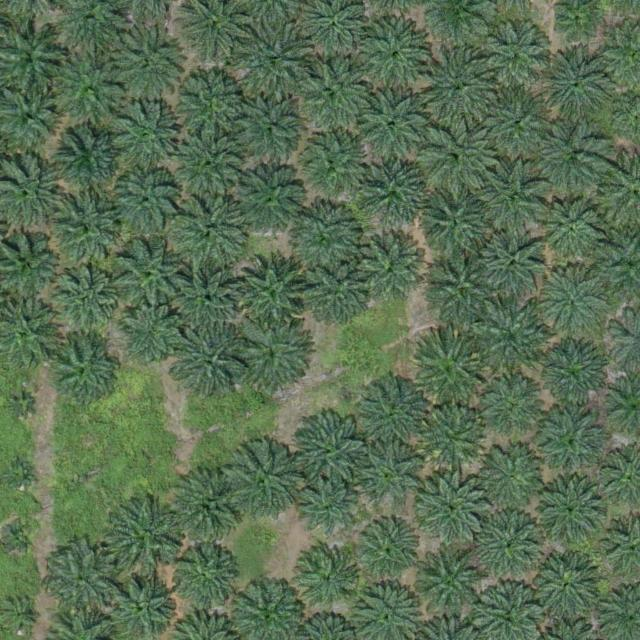Kelapa_Sawit: (45, 49, 123, 127), (104, 100, 182, 178), (106, 23, 184, 101), (107, 237, 185, 315), (173, 66, 251, 144), (173, 125, 251, 203), (172, 192, 250, 270), (170, 322, 248, 400), (286, 56, 364, 134), (289, 125, 367, 203), (282, 199, 360, 277), (231, 251, 309, 329), (234, 316, 312, 394), (417, 47, 495, 125), (415, 119, 493, 197), (409, 333, 487, 411), (288, 412, 366, 490), (222, 445, 300, 523), (108, 498, 186, 576), (45, 261, 115, 332), (53, 194, 123, 265), (116, 300, 186, 371), (480, 88, 550, 159), (479, 21, 549, 92), (538, 51, 608, 122), (539, 123, 609, 194), (172, 470, 242, 541), (48, 335, 118, 405), (55, 124, 125, 194), (111, 167, 181, 237), (168, 265, 238, 335), (232, 165, 302, 235), (233, 94, 303, 164), (241, 22, 311, 92), (299, 255, 369, 325), (355, 232, 425, 302), (360, 154, 430, 224), (355, 90, 425, 160), (358, 21, 428, 91), (420, 190, 490, 260), (425, 251, 495, 321), (476, 305, 546, 375), (478, 229, 548, 299), (476, 164, 546, 234), (538, 341, 608, 411), (532, 473, 602, 543), (529, 549, 599, 619), (475, 440, 545, 510), (475, 509, 545, 579), (418, 470, 488, 540), (416, 550, 486, 620), (46, 544, 116, 614), (543, 269, 605, 332), (540, 409, 602, 472), (479, 374, 541, 437), (420, 405, 482, 468), (364, 381, 426, 444), (357, 443, 419, 506), (354, 518, 416, 581), (295, 476, 357, 539), (110, 575, 172, 638), (539, 196, 601, 258), (294, 547, 356, 609), (172, 543, 234, 605), (4, 600, 35, 631), (4, 520, 35, 551), (6, 389, 37, 420), (3, 458, 34, 489)
